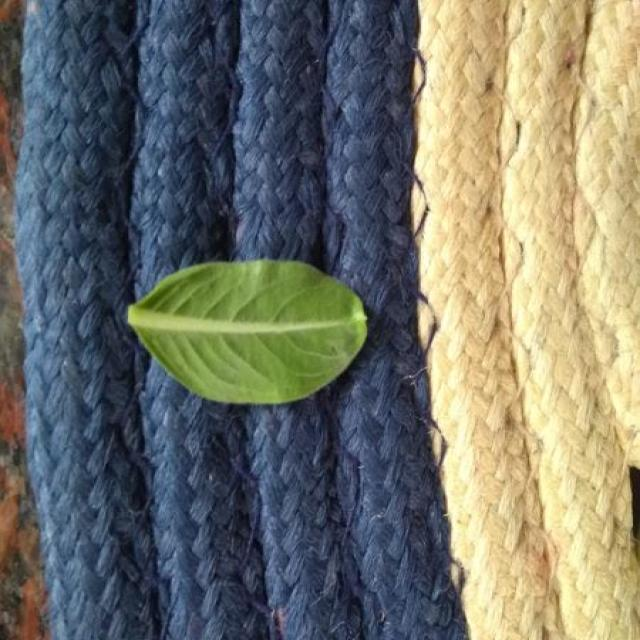catharanthus: (128, 261, 367, 404)
